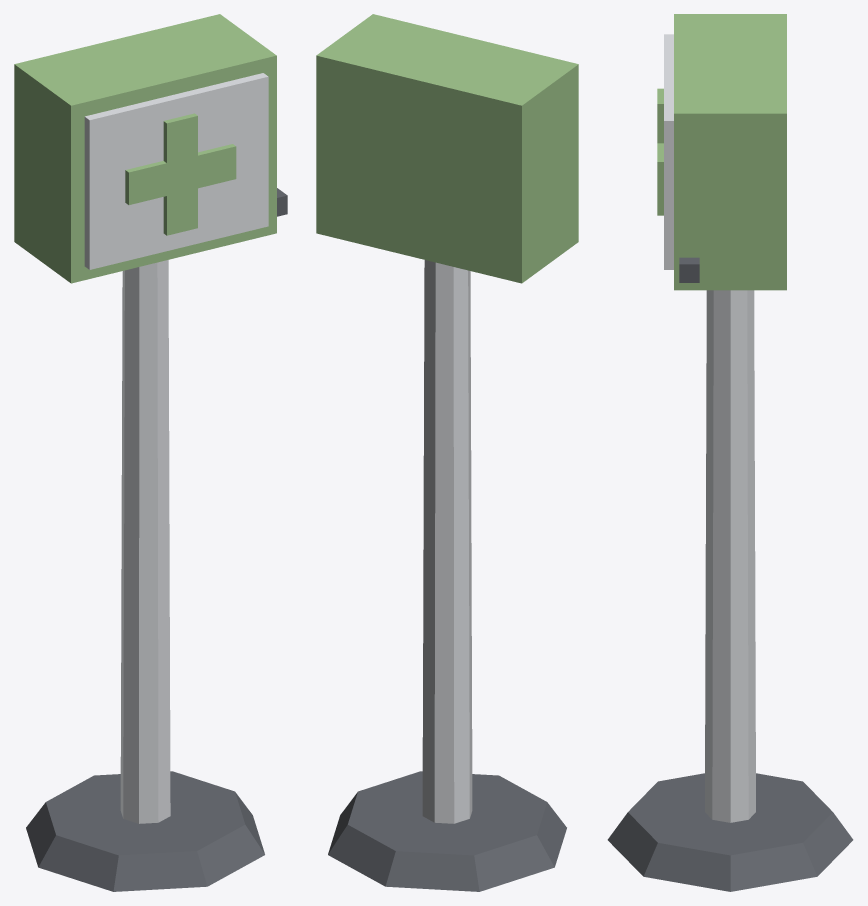
File: dog-agility-and-training-field-first-aid-point-578131ba__35616.glb
3 renders of one model, left to right at view 1: azimuth 30°, elevation 25°; view 2: azimuth 150°, elevation 25°; view 3: azimuth 270°, elevation 25°, orthographic.
Visible parts, largest first — view 1: first-aid-point-steel, first-aid-point-grass, first-aid-point-charcoal; view 2: first-aid-point-grass, first-aid-point-steel, first-aid-point-charcoal; view 3: first-aid-point-grass, first-aid-point-steel, first-aid-point-charcoal.
Boxes of the visible parts, bbox=[...] form: first-aid-point-steel: bbox=[84, 73, 268, 823]; first-aid-point-grass: bbox=[14, 14, 276, 283]; first-aid-point-charcoal: bbox=[26, 188, 287, 891]; first-aid-point-grass: bbox=[316, 14, 578, 283]; first-aid-point-steel: bbox=[422, 260, 472, 823]; first-aid-point-charcoal: bbox=[328, 771, 566, 891]; first-aid-point-grass: bbox=[657, 14, 786, 290]; first-aid-point-steel: bbox=[664, 34, 755, 822]; first-aid-point-charcoal: bbox=[607, 257, 853, 891].
Bounding box in the file's own units: 0.4999 × 1.67 × 0.48.
